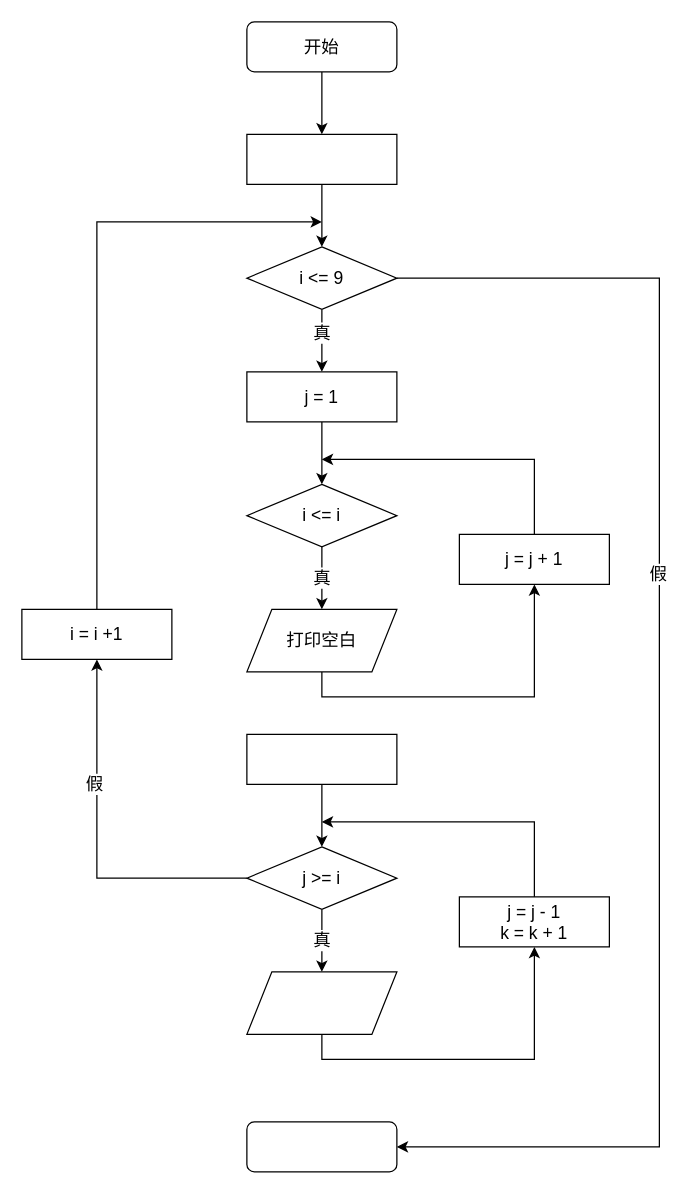
This 691x1194 diagram has some shape labels left out. Each missing label, with the centre of its shape:
"i = 1" goes at point 321,158.
"j = 9, k = i" goes at point 321,758.
"打印当前项" goes at point 321,1002.
"结束" goes at point 321,1146.
